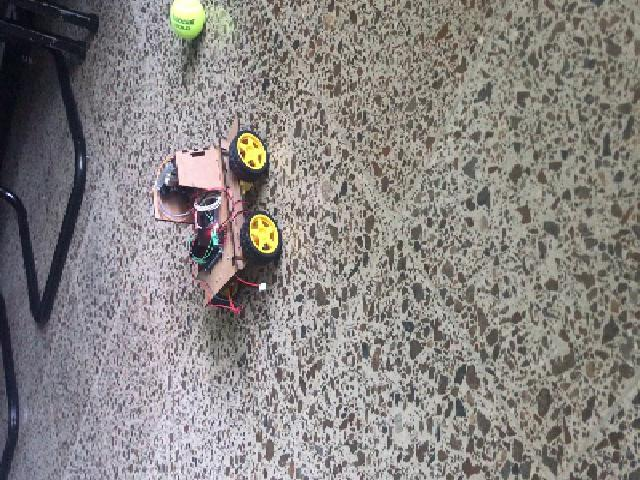Ball: (168, 1, 205, 38)
Robot: (152, 124, 280, 307)
